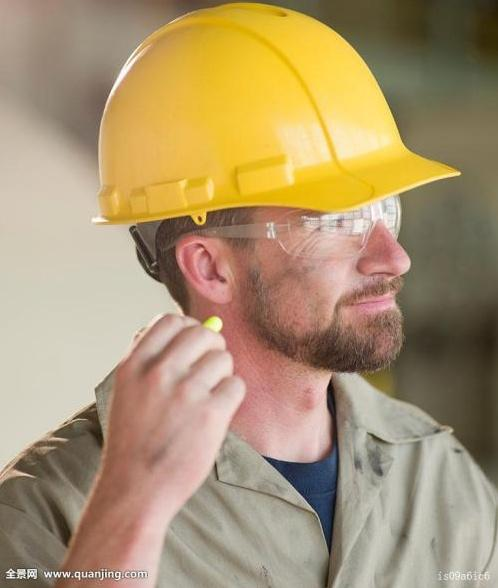hard-hat: (91, 0, 462, 227)
